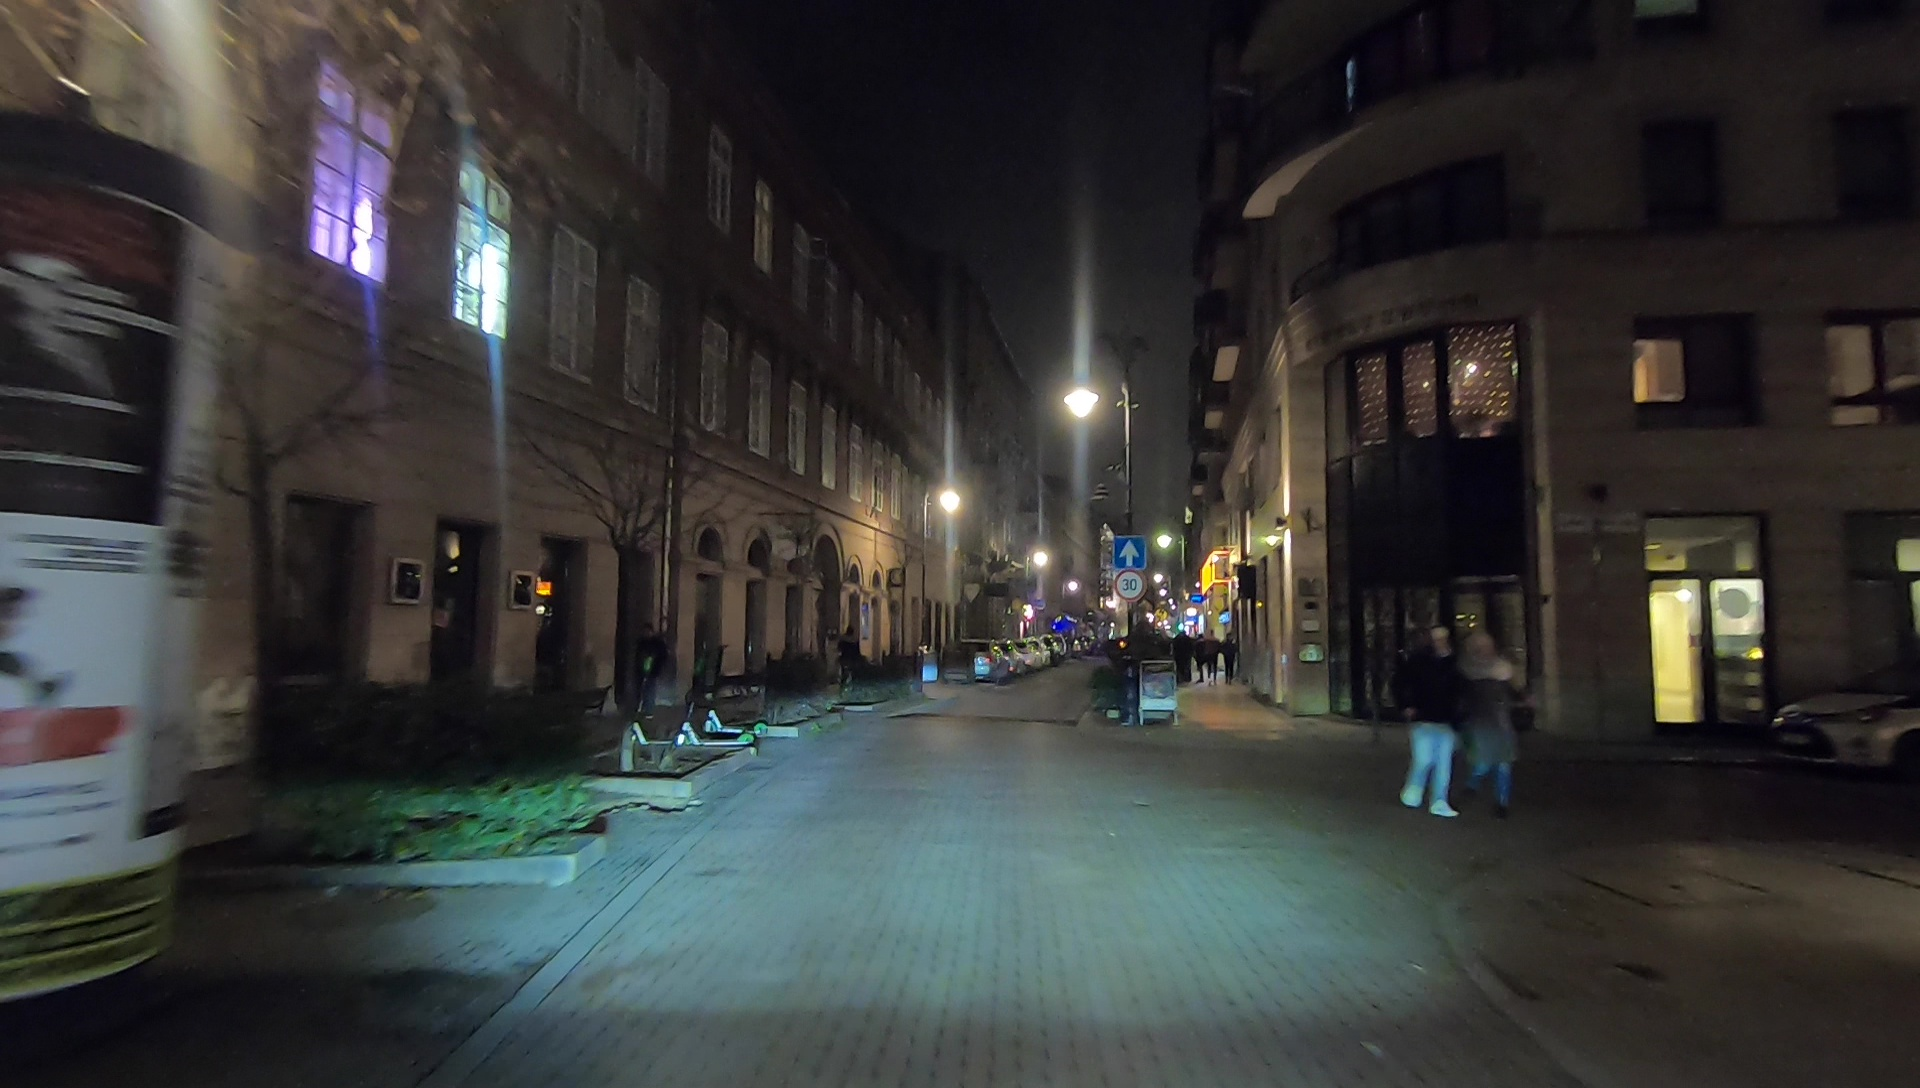person: (1397, 621, 1458, 821), (1458, 628, 1515, 804), (635, 626, 663, 717), (837, 630, 864, 681), (1193, 632, 1208, 681), (1209, 633, 1223, 678), (1223, 632, 1234, 678)
